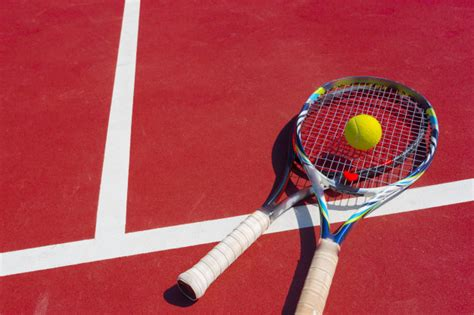tennis_ball: (345, 114, 382, 149)
